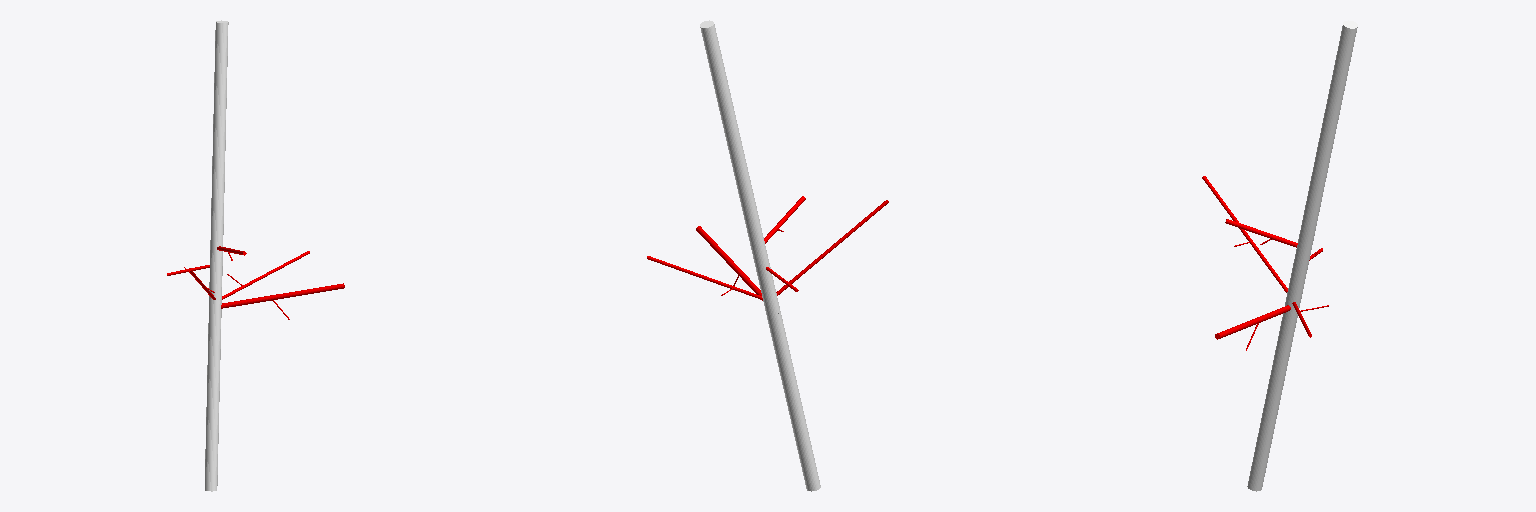
The robot description file, URDF, robot "tree_109.urdf":
<?xml version='1.0' encoding='UTF-8'?>
<robot name="tree_109.urdf">
  <link name="branch_0">
    <inertial>
      <origin xyz="0.0 0.0 0.0" rpy="0.0 -0.0 0.0"/>
      <mass value="0.1"/>
      <inertia ixx="0.001" ixy="0.0" ixz="0.0" iyy="0.001" iyz="0.0" izz="0.001"/>
    </inertial>
    <visual name="branch_0_visual">
      <geometry>
        <cylinder radius="0.11033043164162677" length="8.193337109892997"/>
      </geometry>
      <material name="branch_material"/>
      <origin xyz="0.5172860521925493 0.7050636533967128 4.0022485722345325" rpy="0.0 0.21511427132853225 0.9378267507937927"/>
    </visual>
    <collision name="branch_0_collision">
      <geometry>
        <cylinder radius="0.11033043164162677" length="8.193337109892997"/>
      </geometry>
      <origin xyz="0.5172860521925493 0.7050636533967128 4.0022485722345325" rpy="0.0 0.21511427132853225 0.9378267507937927"/>
    </collision>
  </link>
  <link name="branch_1">
    <inertial>
      <origin xyz="0.0 0.0 0.0" rpy="0.0 -0.0 0.0"/>
      <mass value="0.1"/>
      <inertia ixx="0.001" ixy="0.0" ixz="0.0" iyy="0.001" iyz="0.0" izz="0.001"/>
    </inertial>
    <visual name="branch_1_visual">
      <geometry>
        <cylinder radius="0.028528264826284948" length="2.311959809862609"/>
      </geometry>
      <material name="semantic_material"/>
      <origin xyz="0.0 0.0 0.0" rpy="0.0 -0.0 0.0"/>
    </visual>
    <collision name="branch_1_collision">
      <geometry>
        <cylinder radius="0.028528264826284948" length="2.311959809862609"/>
      </geometry>
      <origin xyz="0.0 0.0 0.0" rpy="0.0 -0.0 0.0"/>
    </collision>
  </link>
  <link name="branch_2">
    <inertial>
      <origin xyz="0.0 0.0 0.0" rpy="0.0 -0.0 0.0"/>
      <mass value="0.1"/>
      <inertia ixx="0.001" ixy="0.0" ixz="0.0" iyy="0.001" iyz="0.0" izz="0.001"/>
    </inertial>
    <visual name="branch_2_visual">
      <geometry>
        <cylinder radius="0.01" length="0.26050882280952653"/>
      </geometry>
      <material name="semantic_material"/>
      <origin xyz="0.0 0.0 0.0" rpy="0.0 -0.0 0.0"/>
    </visual>
    <collision name="branch_2_collision">
      <geometry>
        <cylinder radius="0.01" length="0.26050882280952653"/>
      </geometry>
      <origin xyz="0.0 0.0 0.0" rpy="0.0 -0.0 0.0"/>
    </collision>
  </link>
  <link name="branch_3">
    <inertial>
      <origin xyz="0.0 0.0 0.0" rpy="0.0 -0.0 0.0"/>
      <mass value="0.1"/>
      <inertia ixx="0.001" ixy="0.0" ixz="0.0" iyy="0.001" iyz="0.0" izz="0.001"/>
    </inertial>
    <visual name="branch_3_visual">
      <geometry>
        <cylinder radius="0.043997455053552396" length="2.241274229709347"/>
      </geometry>
      <material name="semantic_material"/>
      <origin xyz="0.0 0.0 0.0" rpy="0.0 -0.0 0.0"/>
    </visual>
    <collision name="branch_3_collision">
      <geometry>
        <cylinder radius="0.043997455053552396" length="2.241274229709347"/>
      </geometry>
      <origin xyz="0.0 0.0 0.0" rpy="0.0 -0.0 0.0"/>
    </collision>
  </link>
  <link name="branch_4">
    <inertial>
      <origin xyz="0.0 0.0 0.0" rpy="0.0 -0.0 0.0"/>
      <mass value="0.1"/>
      <inertia ixx="0.001" ixy="0.0" ixz="0.0" iyy="0.001" iyz="0.0" izz="0.001"/>
    </inertial>
    <visual name="branch_4_visual">
      <geometry>
        <cylinder radius="0.01183596273728753" length="0.5039241685208892"/>
      </geometry>
      <material name="semantic_material"/>
      <origin xyz="0.0 0.0 0.0" rpy="0.0 -0.0 0.0"/>
    </visual>
    <collision name="branch_4_collision">
      <geometry>
        <cylinder radius="0.01183596273728753" length="0.5039241685208892"/>
      </geometry>
      <origin xyz="0.0 0.0 0.0" rpy="0.0 -0.0 0.0"/>
    </collision>
  </link>
  <link name="branch_5">
    <inertial>
      <origin xyz="0.0 0.0 0.0" rpy="0.0 -0.0 0.0"/>
      <mass value="0.1"/>
      <inertia ixx="0.001" ixy="0.0" ixz="0.0" iyy="0.001" iyz="0.0" izz="0.001"/>
    </inertial>
    <visual name="branch_5_visual">
      <geometry>
        <cylinder radius="0.025506298049657723" length="0.8554888998705771"/>
      </geometry>
      <material name="semantic_material"/>
      <origin xyz="0.0 0.0 0.0" rpy="0.0 -0.0 0.0"/>
    </visual>
    <collision name="branch_5_collision">
      <geometry>
        <cylinder radius="0.025506298049657723" length="0.8554888998705771"/>
      </geometry>
      <origin xyz="0.0 0.0 0.0" rpy="0.0 -0.0 0.0"/>
    </collision>
  </link>
  <link name="branch_6">
    <inertial>
      <origin xyz="0.0 0.0 0.0" rpy="0.0 -0.0 0.0"/>
      <mass value="0.1"/>
      <inertia ixx="0.001" ixy="0.0" ixz="0.0" iyy="0.001" iyz="0.0" izz="0.001"/>
    </inertial>
    <visual name="branch_6_visual">
      <geometry>
        <cylinder radius="0.01" length="0.08587856788353632"/>
      </geometry>
      <material name="semantic_material"/>
      <origin xyz="0.0 0.0 0.0" rpy="0.0 -0.0 0.0"/>
    </visual>
    <collision name="branch_6_collision">
      <geometry>
        <cylinder radius="0.01" length="0.08587856788353632"/>
      </geometry>
      <origin xyz="0.0 0.0 0.0" rpy="0.0 -0.0 0.0"/>
    </collision>
  </link>
  <link name="branch_7">
    <inertial>
      <origin xyz="0.0 0.0 0.0" rpy="0.0 -0.0 0.0"/>
      <mass value="0.1"/>
      <inertia ixx="0.001" ixy="0.0" ixz="0.0" iyy="0.001" iyz="0.0" izz="0.001"/>
    </inertial>
    <visual name="branch_7_visual">
      <geometry>
        <cylinder radius="0.026840241700267442" length="2.0434407318072125"/>
      </geometry>
      <material name="semantic_material"/>
      <origin xyz="0.0 0.0 0.0" rpy="0.0 -0.0 0.0"/>
    </visual>
    <collision name="branch_7_collision">
      <geometry>
        <cylinder radius="0.026840241700267442" length="2.0434407318072125"/>
      </geometry>
      <origin xyz="0.0 0.0 0.0" rpy="0.0 -0.0 0.0"/>
    </collision>
  </link>
  <link name="branch_8">
    <inertial>
      <origin xyz="0.0 0.0 0.0" rpy="0.0 -0.0 0.0"/>
      <mass value="0.1"/>
      <inertia ixx="0.001" ixy="0.0" ixz="0.0" iyy="0.001" iyz="0.0" izz="0.001"/>
    </inertial>
    <visual name="branch_8_visual">
      <geometry>
        <cylinder radius="0.01" length="0.45897137313853126"/>
      </geometry>
      <material name="semantic_material"/>
      <origin xyz="0.0 0.0 0.0" rpy="0.0 -0.0 0.0"/>
    </visual>
    <collision name="branch_8_collision">
      <geometry>
        <cylinder radius="0.01" length="0.45897137313853126"/>
      </geometry>
      <origin xyz="0.0 0.0 0.0" rpy="0.0 -0.0 0.0"/>
    </collision>
  </link>
  <link name="branch_9">
    <inertial>
      <origin xyz="0.0 0.0 0.0" rpy="0.0 -0.0 0.0"/>
      <mass value="0.1"/>
      <inertia ixx="0.001" ixy="0.0" ixz="0.0" iyy="0.001" iyz="0.0" izz="0.001"/>
    </inertial>
    <visual name="branch_9_visual">
      <geometry>
        <cylinder radius="0.03616599883290843" length="1.2229130320162276"/>
      </geometry>
      <material name="semantic_material"/>
      <origin xyz="0.0 0.0 0.0" rpy="0.0 -0.0 0.0"/>
    </visual>
    <collision name="branch_9_collision">
      <geometry>
        <cylinder radius="0.03616599883290843" length="1.2229130320162276"/>
      </geometry>
      <origin xyz="0.0 0.0 0.0" rpy="0.0 -0.0 0.0"/>
    </collision>
  </link>
  <link name="branch_10">
    <inertial>
      <origin xyz="0.0 0.0 0.0" rpy="0.0 -0.0 0.0"/>
      <mass value="0.1"/>
      <inertia ixx="0.001" ixy="0.0" ixz="0.0" iyy="0.001" iyz="0.0" izz="0.001"/>
    </inertial>
    <visual name="branch_10_visual">
      <geometry>
        <cylinder radius="0.012263822516770896" length="0.23073644910495375"/>
      </geometry>
      <material name="semantic_material"/>
      <origin xyz="0.0 0.0 0.0" rpy="0.0 -0.0 0.0"/>
    </visual>
    <collision name="branch_10_collision">
      <geometry>
        <cylinder radius="0.012263822516770896" length="0.23073644910495375"/>
      </geometry>
      <origin xyz="0.0 0.0 0.0" rpy="0.0 -0.0 0.0"/>
    </collision>
  </link>
  <joint name="joint_0_1" type="fixed">
    <parent link="branch_0"/>
    <child link="branch_1"/>
    <axis xyz="1. 0. 0."/>
    <origin xyz="-0.2182868998983317 -0.09046357101813846 3.946575353990431" rpy="0.041179734874968975 0.9190546481254153 -2.285594492875524"/>
  </joint>
  <joint name="joint_0_3" type="fixed">
    <parent link="branch_0"/>
    <child link="branch_3"/>
    <axis xyz="1. 0. 0."/>
    <origin xyz="1.35882612205096 -0.00038513577961552404 3.3275961449027482" rpy="-0.8701200242071261 1.2884579908884621 -1.4134835803833294"/>
  </joint>
  <joint name="joint_0_5" type="fixed">
    <parent link="branch_0"/>
    <child link="branch_5"/>
    <axis xyz="1. 0. 0."/>
    <origin xyz="0.10408305643469468 0.8330222433855489 3.7882697896372517" rpy="2.191484733021024 1.3119578812423731 -1.3398061492279476"/>
  </joint>
  <joint name="joint_0_7" type="fixed">
    <parent link="branch_0"/>
    <child link="branch_7"/>
    <axis xyz="1. 0. 0."/>
    <origin xyz="1.4130598750223702 0.6937455219545955 3.4028699199755357" rpy="-0.7289776251251364 1.3270378026086476 -0.6175332756092066"/>
  </joint>
  <joint name="joint_0_9" type="fixed">
    <parent link="branch_0"/>
    <child link="branch_9"/>
    <axis xyz="1. 0. 0."/>
    <origin xyz="0.47738545608521477 0.15232594338527256 4.334849308186551" rpy="-0.31818984758079705 1.2324493282177107 -2.006812820974192"/>
  </joint>
  <joint name="joint_1_2" type="fixed">
    <parent link="branch_0"/>
    <child link="branch_2"/>
    <axis xyz="1. 0. 0."/>
    <origin xyz="-0.1447917157404632 -0.1749914973477015 3.8857961789700735" rpy="1.7746862685308125 0.7521467038077946 0.4210903099793588"/>
  </joint>
  <joint name="joint_3_4" type="fixed">
    <parent link="branch_0"/>
    <child link="branch_4"/>
    <axis xyz="1. 0. 0."/>
    <origin xyz="1.3530215607836322 -0.026809085331863363 3.1061002024375313" rpy="-2.9935337052298596 0.6784545171879455 2.690287476346384"/>
  </joint>
  <joint name="joint_5_6" type="fixed">
    <parent link="branch_0"/>
    <child link="branch_6"/>
    <axis xyz="1. 0. 0."/>
    <origin xyz="0.01765969793957465 0.8903714783017123 3.803321318797662" rpy="-0.7577220745374359 -0.5602697155944233 -0.015893094517878816"/>
  </joint>
  <joint name="joint_7_8" type="fixed">
    <parent link="branch_0"/>
    <child link="branch_8"/>
    <axis xyz="1. 0. 0."/>
    <origin xyz="0.9891713365416651 0.8685927261715457 3.3645330608682014" rpy="1.4175485376232562 0.17729244404006822 -3.0399729768312045"/>
  </joint>
  <joint name="joint_9_10" type="fixed">
    <parent link="branch_0"/>
    <child link="branch_10"/>
    <axis xyz="1. 0. 0."/>
    <origin xyz="0.48371886454906426 0.18475018803211177 4.227980350450014" rpy="3.0842301390813556 0.9807133938815329 1.4336474753825605"/>
  </joint>
  <material name="branch_material">
    <color rgba="1. 1. 1. 1."/>
  </material>
  <material name="semantic_material">
    <color rgba="1. 0. 0. 1."/>
  </material>
</robot>

--- What the picture shows (computed from the rendered views, not written in the file) ---
Views: 3 orthographic renders of the robot side by side, from view 1: azimuth 30°, elevation 25°; view 2: azimuth 150°, elevation 25°; view 3: azimuth 270°, elevation 25°.
Model tree_109.urdf with 11 links and 10 joints (10 fixed), rooted at branch_0, posed every joint at zero.
Links seen in each view (by area): view 1: branch_0, branch_3; view 2: branch_0, branch_1, branch_3; view 3: branch_0.
Link boxes in pixels (bbox=[...]): branch_0: bbox=[205, 20, 228, 491]; branch_3: bbox=[221, 283, 344, 308]; branch_0: bbox=[700, 20, 820, 491]; branch_1: bbox=[776, 200, 888, 295]; branch_3: bbox=[696, 226, 762, 300]; branch_0: bbox=[1247, 20, 1357, 491].
Bounding box of the posed robot: 3.3 × 2.29 × 8.05 m (x, y, z).
Geometry: primitives only (box / cylinder / sphere), no mesh files.
